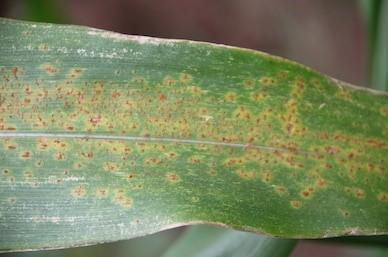Corn_Common_Rust: (0, 19, 388, 252)
